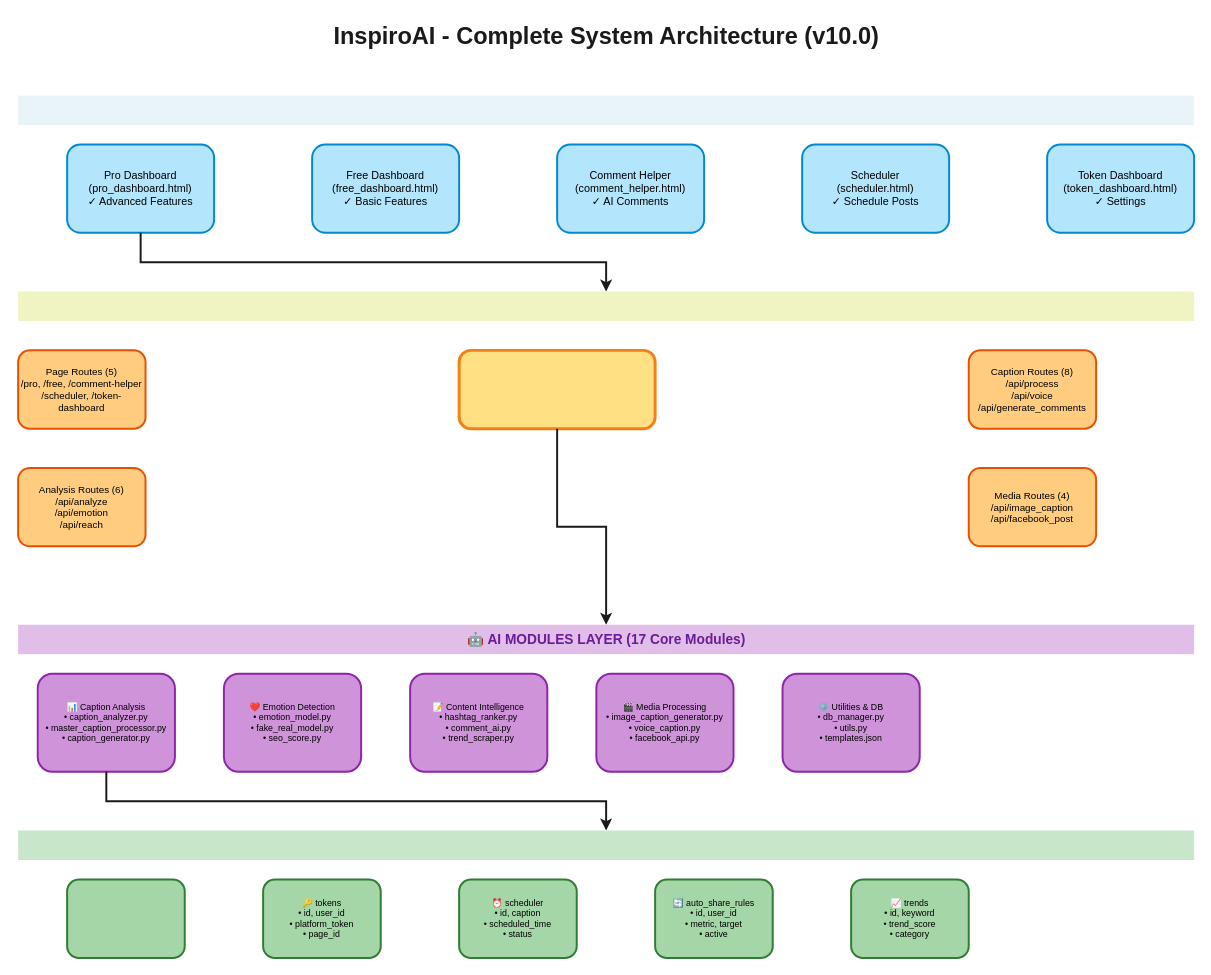
Image size: 1211x975. Some labels were removed from this diagram. Here are the shapes that lost their labels. From the top down, the box of each, then its label:
(18, 95, 1194, 124): 🎨 USER LAYER (Frontend)
(18, 291, 1194, 320): 🚀 BACKEND LAYER (Flask - 31 Routes)
(457, 348, 656, 430): main.py Flask Server 127.0.0.1:5000
(18, 830, 1194, 859): 💾 DATABASE LAYER (SQLite v10.0)
(66, 878, 185, 958): 📄 captions • id, text, seo_score • emotion, language • timestamp
